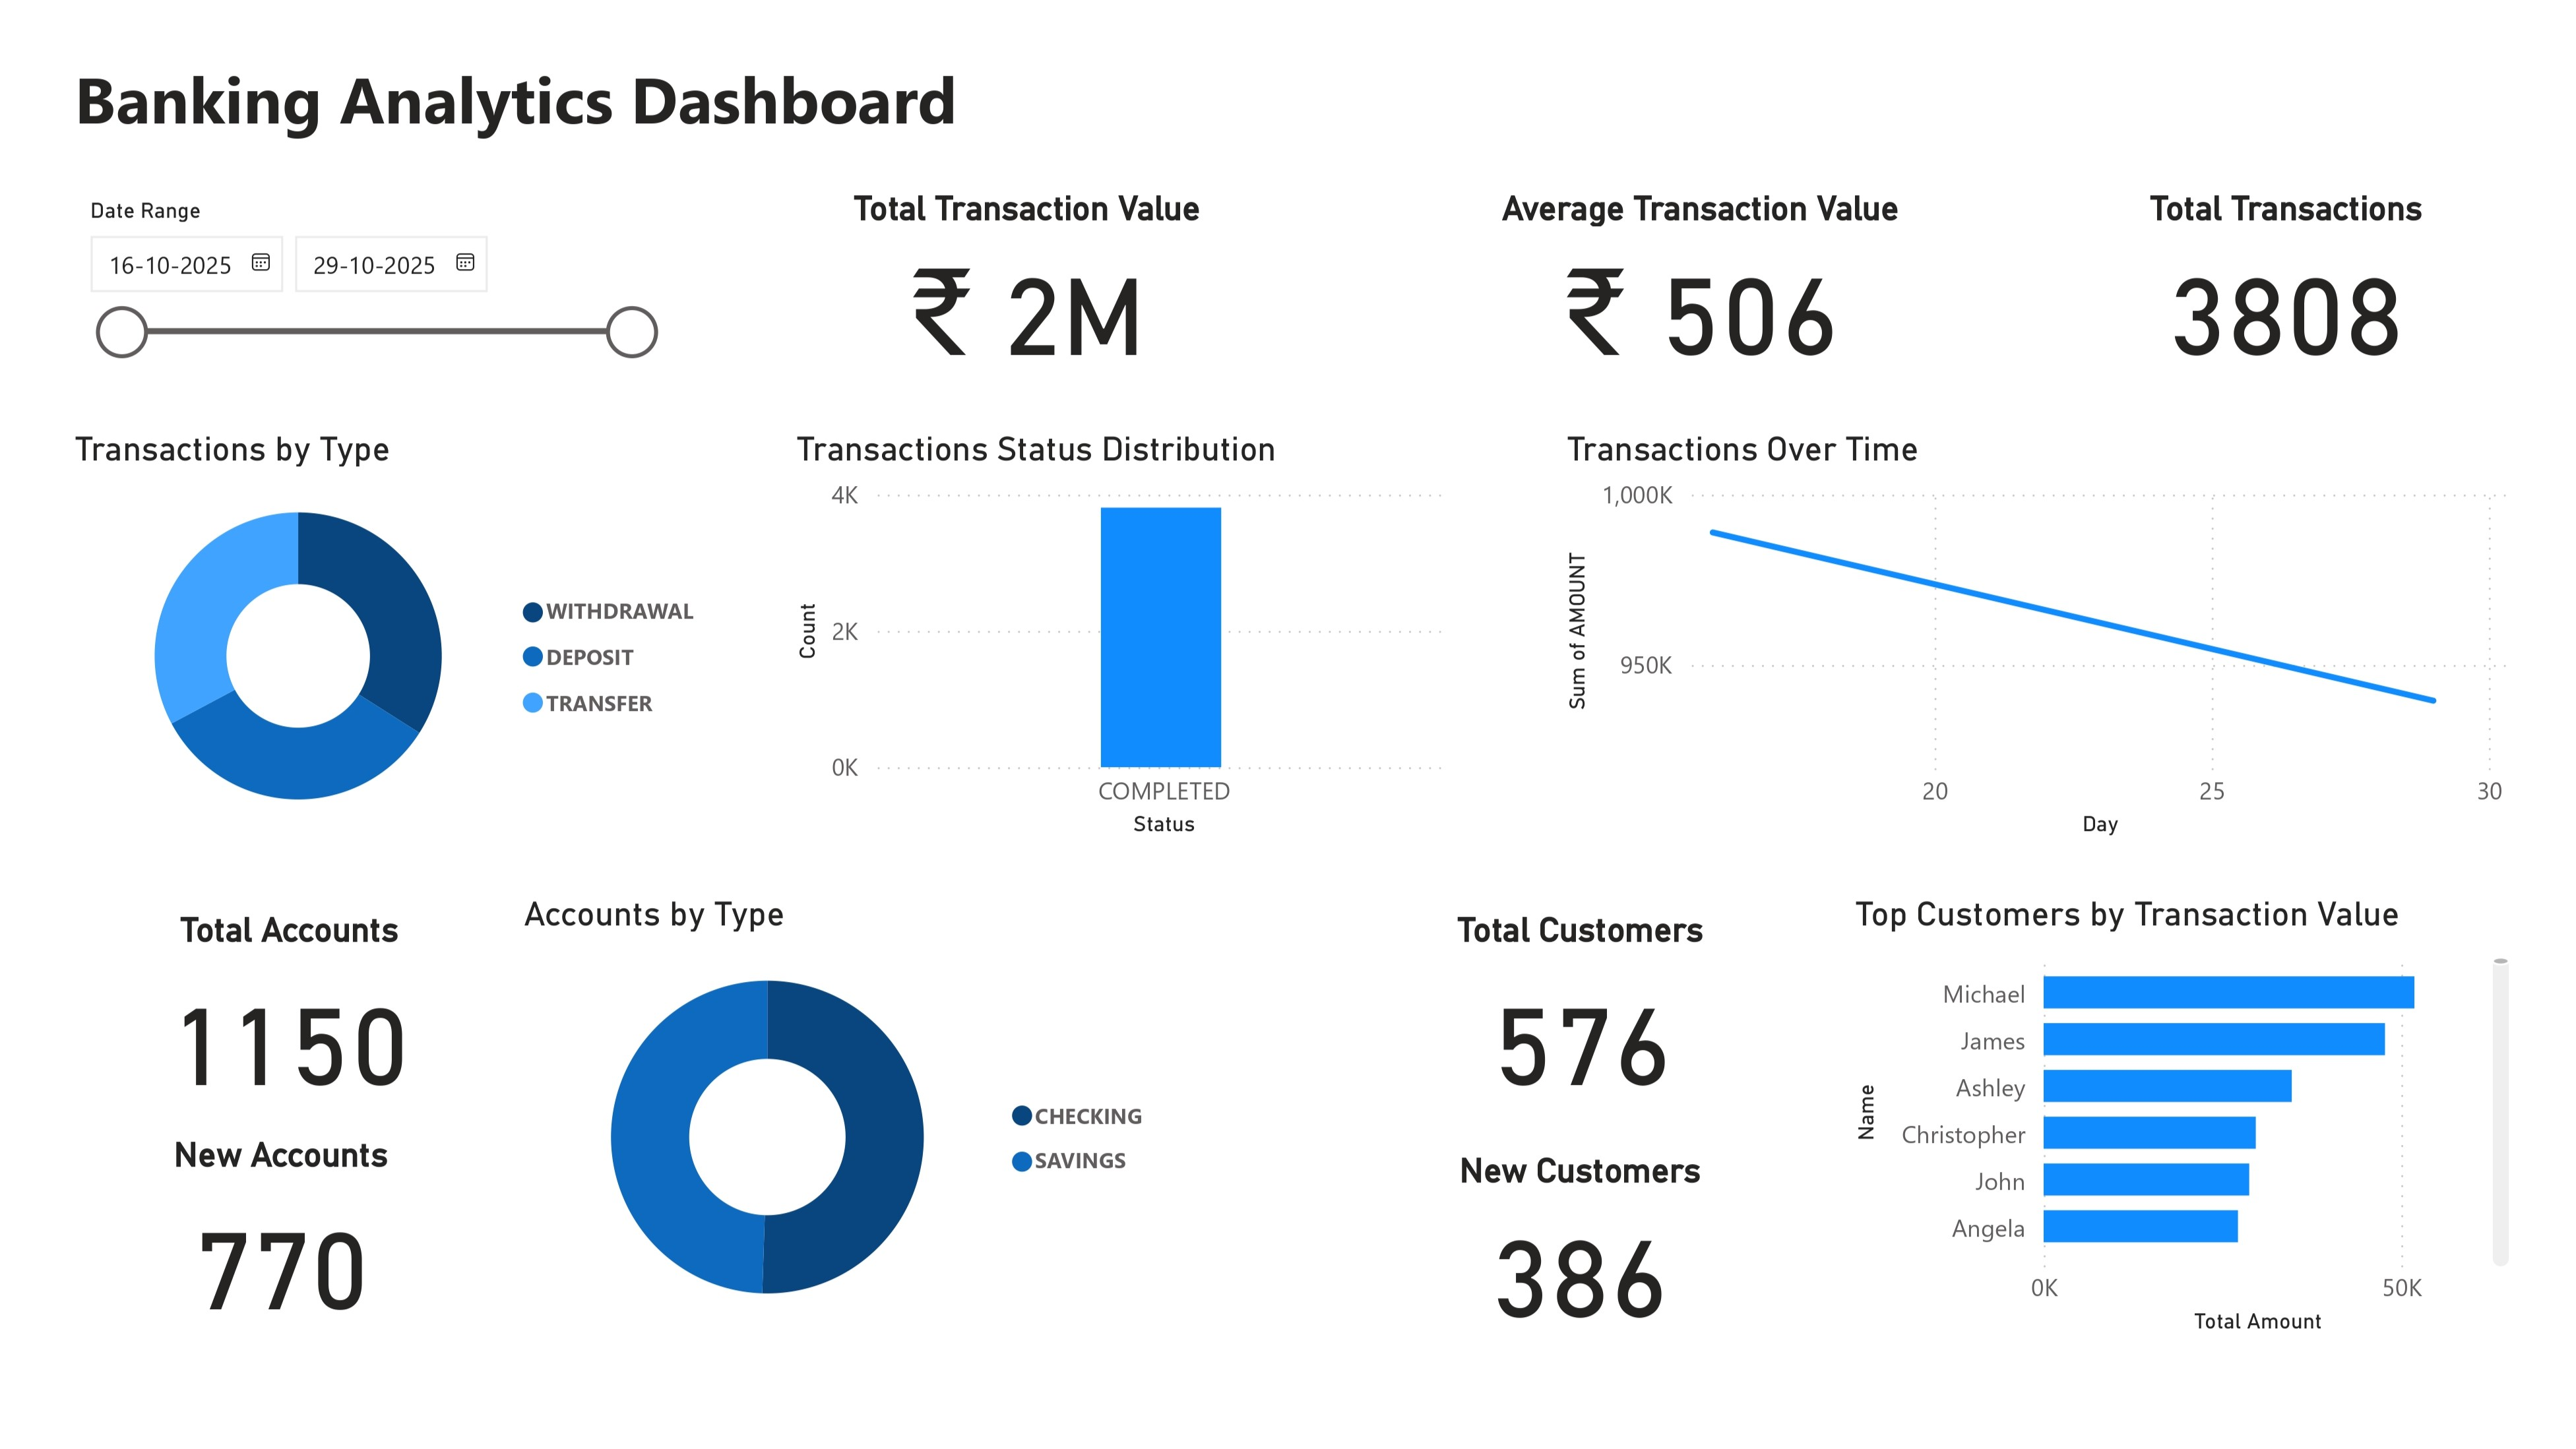

The dashboard page shown, as its layout file describes it:
{"tool":"powerbi","page":{"name":"Page 1","canvas":[1280,720],"ordinal":0},"visuals":[{"type":"card","title":"Total Transactions","fields":{"Values":["CountNonNull(FACT_TRANSACTIONS (2).TRANSACTION_ID)"]},"box":[957.9,93.9,218.8,100.1],"z":0},{"type":"card","title":"Average Transaction Value","fields":{"Values":["FACT_TRANSACTIONS (2).Average Transaction Value"]},"box":[668.9,93.9,218.8,100.1],"z":1000},{"type":"donutChart","title":"Transactions by Type","fields":{"Category":["FACT_TRANSACTIONS (2).TRANSACTION_TYPE"],"Y":["CountNonNull(FACT_TRANSACTIONS (2).AMOUNT)"]},"box":[24.8,194.1,328.3,216.8],"z":2000},{"type":"textbox","box":[25.3,0,1254.7,84.6],"z":3000},{"type":"card","title":"Total Transaction Value","fields":{"Values":["Sum(FACT_TRANSACTIONS (2).AMOUNT)"]},"box":[328.3,93.9,218.8,100.1],"z":4000},{"type":"columnChart","title":"Transactions Status Distribution","fields":{"Category":["FACT_TRANSACTIONS (2).STATUS"],"Y":["CountNonNull(FACT_TRANSACTIONS (2).TRANSACTION_ID)"]},"box":[353,194.1,373.7,216.8],"z":5000},{"type":"lineChart","title":"Transactions Over Time","fields":{"Category":["FACT_TRANSACTIONS (2).TRANSACTION_TIME.Variation.Date Hierarchy.Month","FACT_TRANSACTIONS (2).TRANSACTION_TIME.Variation.Date Hierarchy.Day"],"Y":["Sum(FACT_TRANSACTIONS (2).AMOUNT)"]},"box":[795.2,193.8,327.8,216.5],"z":6000},{"type":"card","title":"Total Accounts","fields":{"Values":["CountNonNull(DIM_ACCOUNTS (2).ACCOUNT_ID)"]},"box":[25.4,443.8,218.3,99.6],"z":7000},{"type":"card","title":"New Accounts","fields":{"Values":["CountNonNull(DIM_ACCOUNTS (2).ACCOUNT_ID)"]},"box":[24.5,560.6,218.3,99.6],"z":8000},{"type":"donutChart","title":"Accounts by Type","fields":{"Category":["DIM_ACCOUNTS (2).ACCOUNT_TYPE"],"Y":["CountNonNull(DIM_ACCOUNTS (2).ACCOUNT_ID)"]},"box":[265.3,443.9,328.3,216.8],"z":9000},{"type":"card","title":"Total Customers","fields":{"Values":["CountNonNull(DIM_CUSTOMERS (2).CUSTOMER_ID)"]},"box":[670.2,443.8,218.3,99.6],"z":10000},{"type":"card","title":"New Customers","fields":{"Values":["CountNonNull(DIM_CUSTOMERS (2).CUSTOMER_ID)"]},"box":[670.2,561.5,218.3,98.7],"z":11000},{"type":"barChart","title":"Top Customers by Transaction Value","fields":{"Category":["DIM_CUSTOMERS (2).FIRST_NAME"],"Y":["Sum(FACT_TRANSACTIONS (2).AMOUNT)"]},"box":[924.7,443.8,291.6,216.5],"z":12000},{"type":"slicer","fields":{"Values":["DIM_ACCOUNTS (2).CREATED_AT"]},"box":[25.8,84.6,302.5,109.4],"z":13000}]}

Visuals, with their boxes in screenshot pixels (x1, y1, x2, y2), scaled from the page's 1280x720 canvas onto the 2576x1449 screenshot:
"Total Transactions" card: [x1=1928, y1=189, x2=2368, y2=390]
"Average Transaction Value" card: [x1=1346, y1=189, x2=1786, y2=390]
"Transactions by Type" donutChart: [x1=50, y1=390, x2=710, y2=827]
textbox: [x1=51, y1=0, x2=2575, y2=170]
"Total Transaction Value" card: [x1=661, y1=189, x2=1101, y2=390]
"Transactions Status Distribution" columnChart: [x1=710, y1=390, x2=1462, y2=827]
"Transactions Over Time" lineChart: [x1=1600, y1=390, x2=2260, y2=826]
"Total Accounts" card: [x1=51, y1=893, x2=490, y2=1094]
"New Accounts" card: [x1=49, y1=1128, x2=489, y2=1329]
"Accounts by Type" donutChart: [x1=534, y1=894, x2=1195, y2=1330]
"Total Customers" card: [x1=1349, y1=893, x2=1788, y2=1094]
"New Customers" card: [x1=1349, y1=1130, x2=1788, y2=1329]
"Top Customers by Transaction Value" barChart: [x1=1861, y1=893, x2=2448, y2=1329]
slicer - DIM_ACCOUNTS (2).CREATED_AT: [x1=52, y1=170, x2=661, y2=390]
